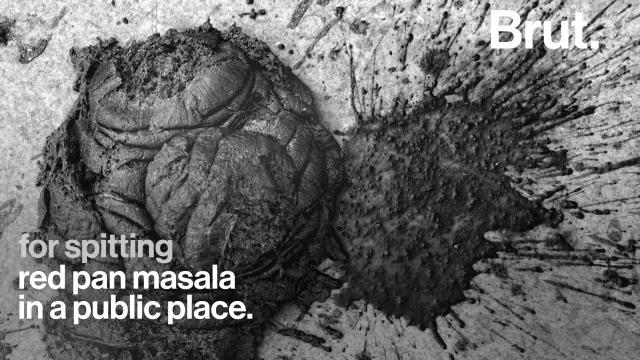spit: (345, 101, 539, 311)
